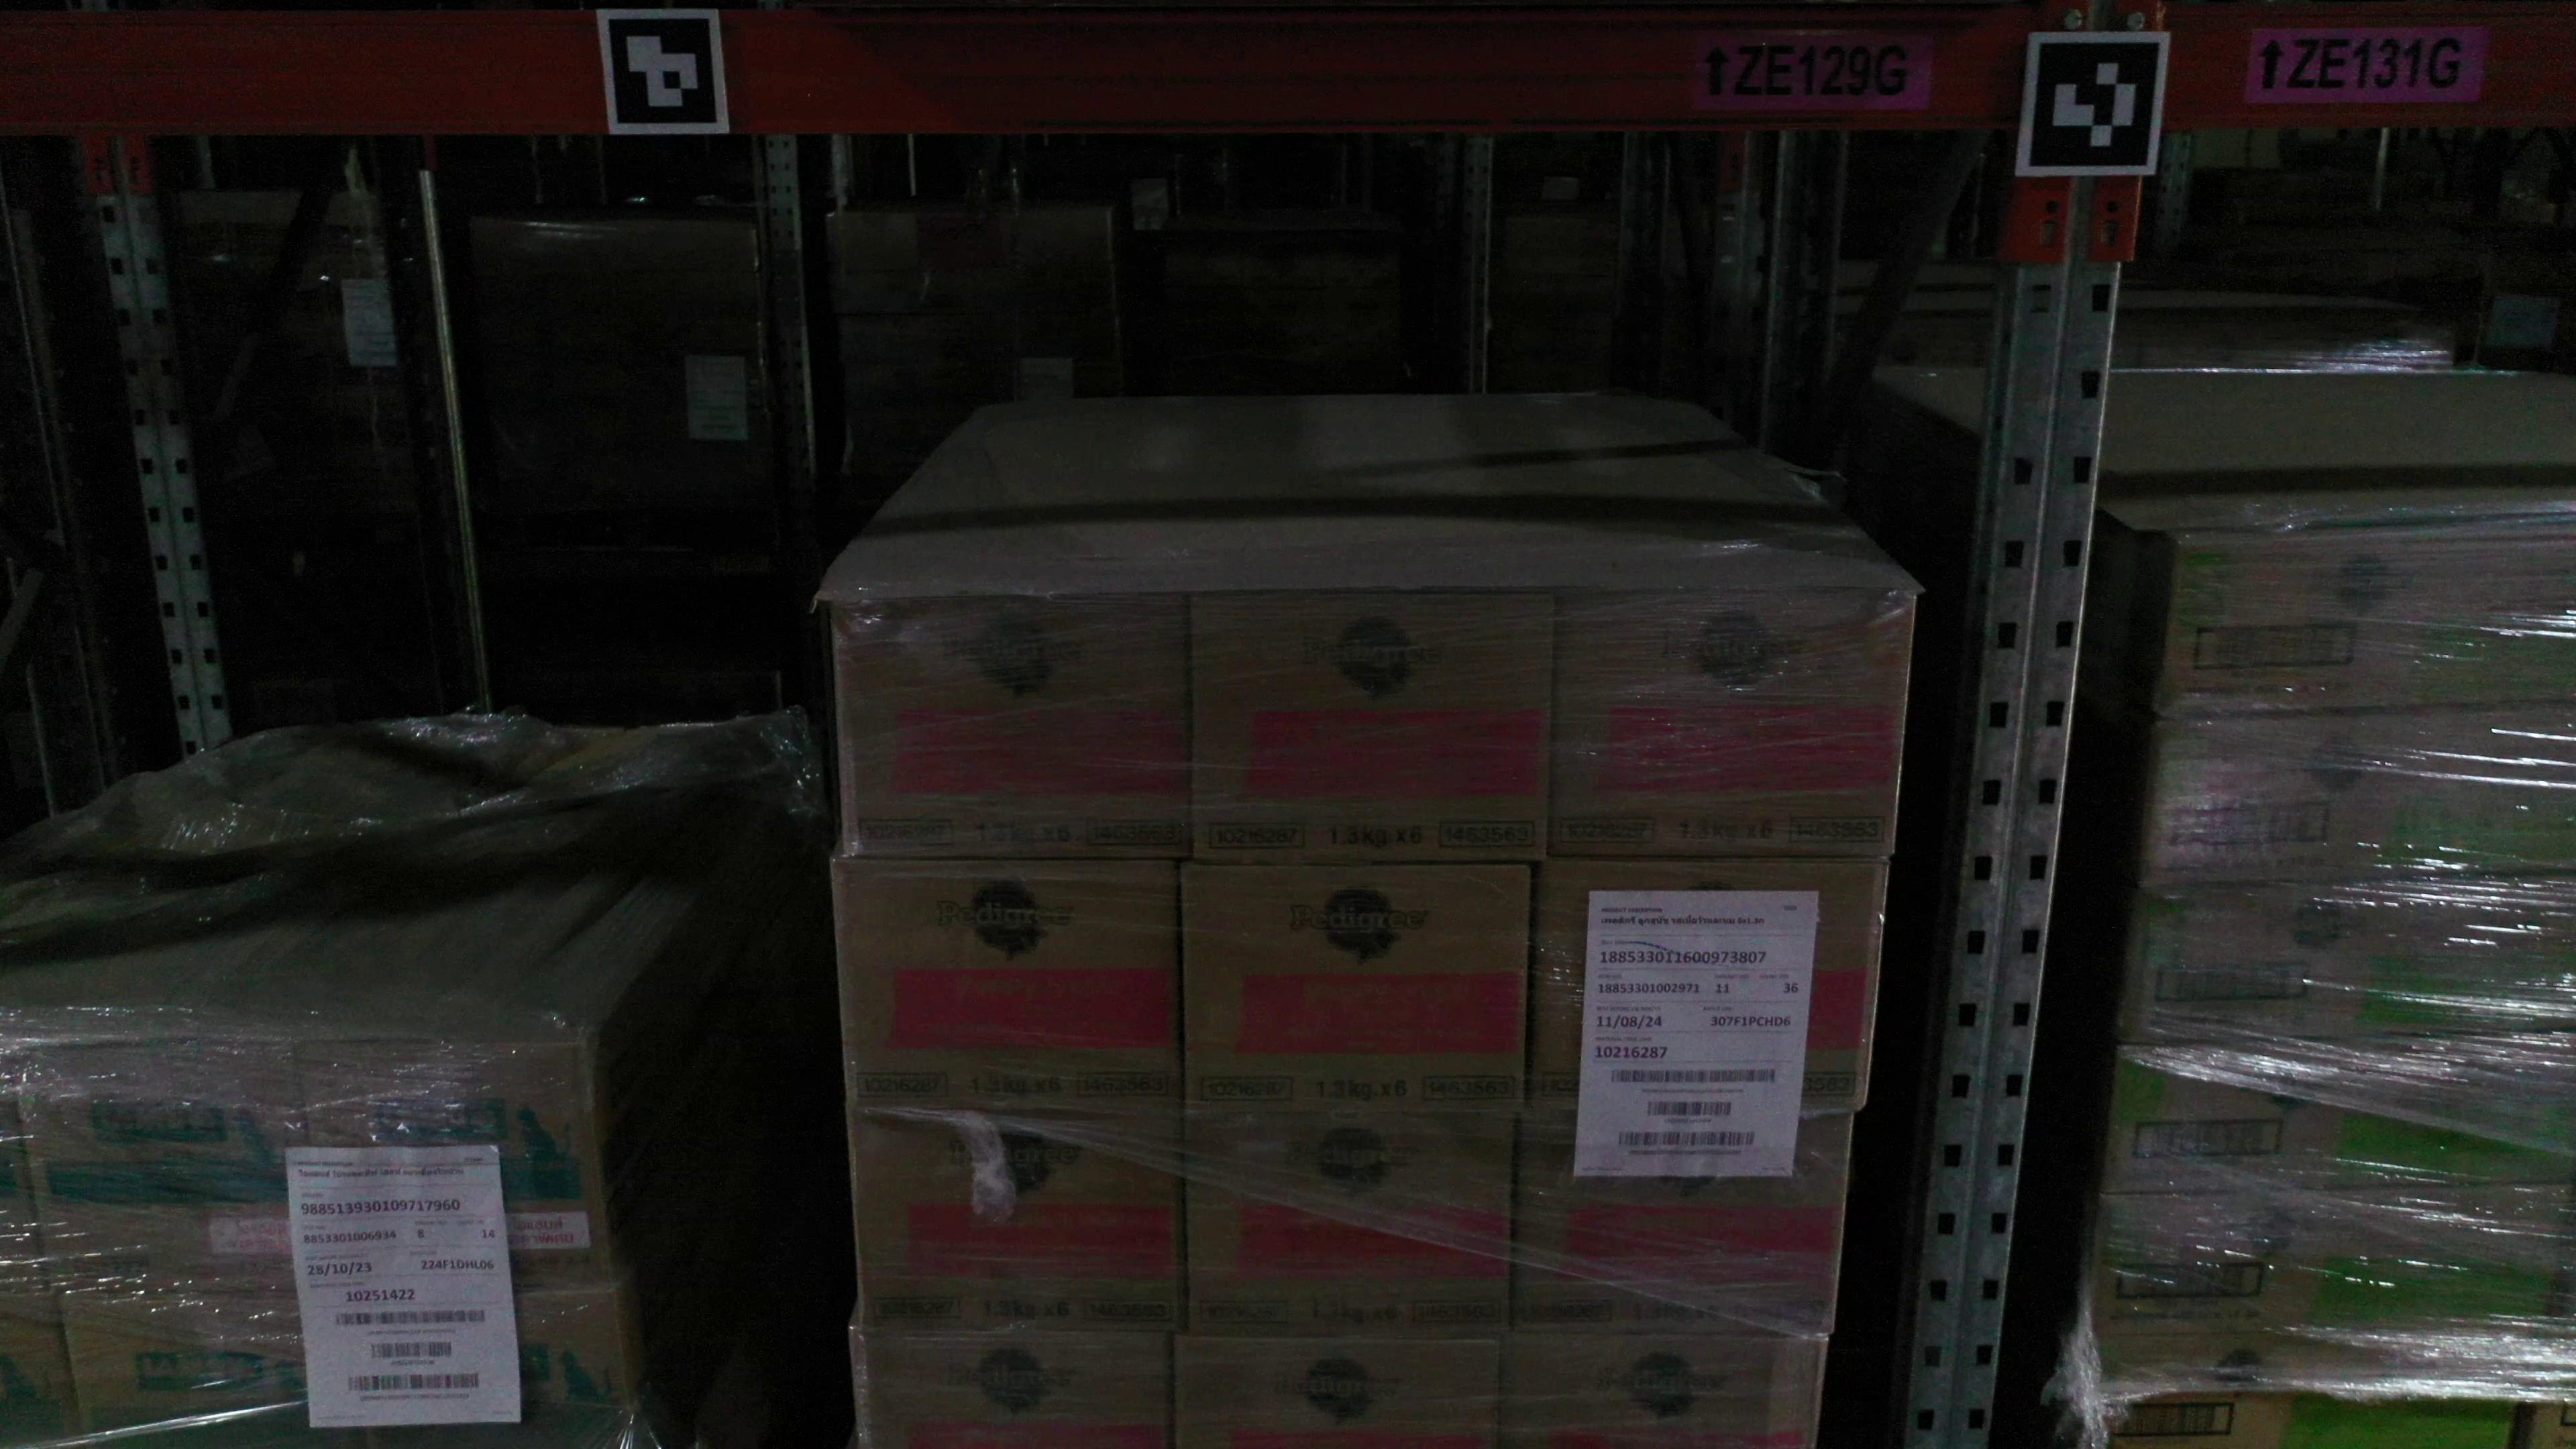-: (1184, 591, 1557, 867), (1550, 586, 1914, 863), (828, 591, 1189, 863), (1525, 856, 1888, 1116), (828, 863, 1187, 1113), (9, 1044, 350, 1302), (1185, 865, 1534, 1118), (2143, 702, 2576, 895), (2120, 867, 2576, 1049), (2160, 525, 2576, 722), (1511, 1113, 1856, 1346), (299, 1044, 612, 1299), (840, 1111, 1189, 1339), (1185, 1111, 1520, 1341), (2102, 1037, 2576, 1198), (2088, 1185, 2571, 1341), (2075, 1338, 2534, 1449), (57, 1295, 375, 1449), (349, 1295, 639, 1449), (1499, 1336, 1829, 1449), (862, 1332, 1177, 1449), (1171, 1339, 1506, 1449), (0, 1290, 87, 1449)
